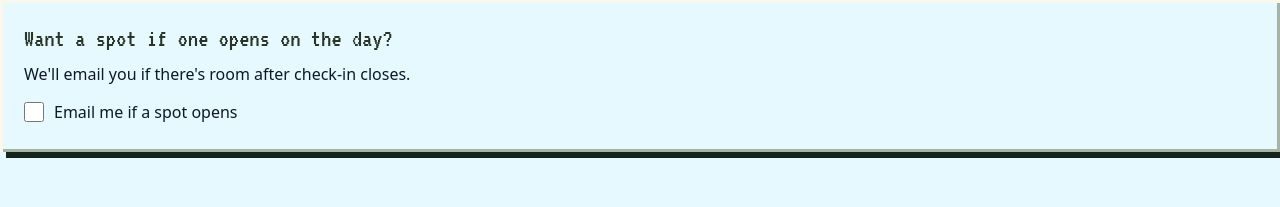
WaitlistOptIn › says when saving fails
Click the switch: (34, 112) x1=24 y1=102 x2=44 y2=122
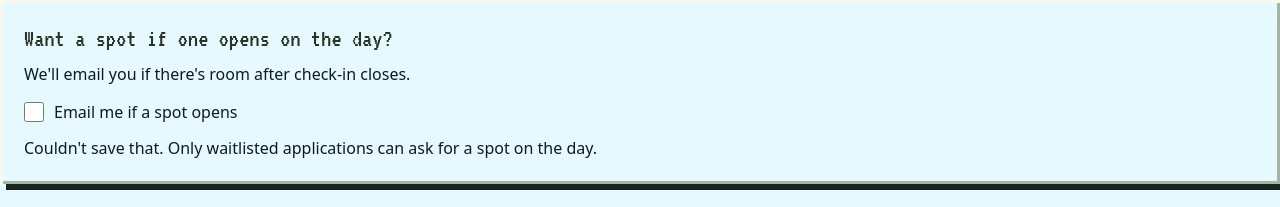
Expected: the message shows "Only waitlisted applications", x1=168 y1=137 x2=597 y2=159
